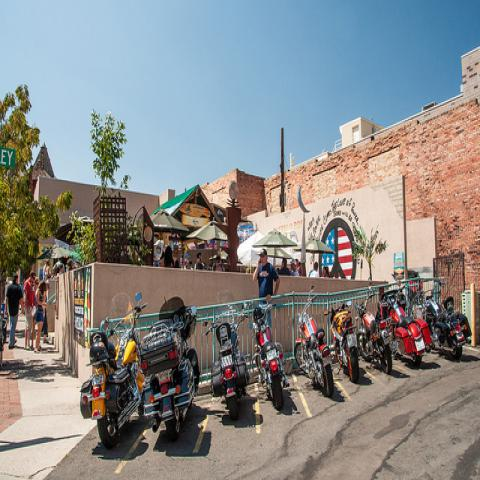motorcycle: (82, 292, 148, 450), (138, 294, 200, 440), (201, 312, 251, 425), (413, 282, 472, 360), (294, 286, 334, 398), (386, 280, 434, 366), (251, 299, 286, 411), (351, 291, 394, 380), (323, 300, 360, 382)
